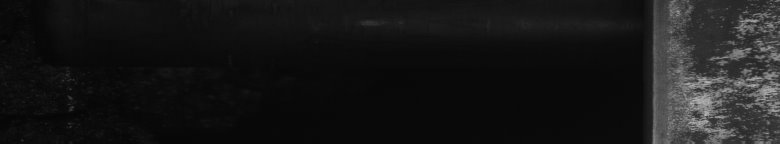kb: (670, 4, 776, 136)
